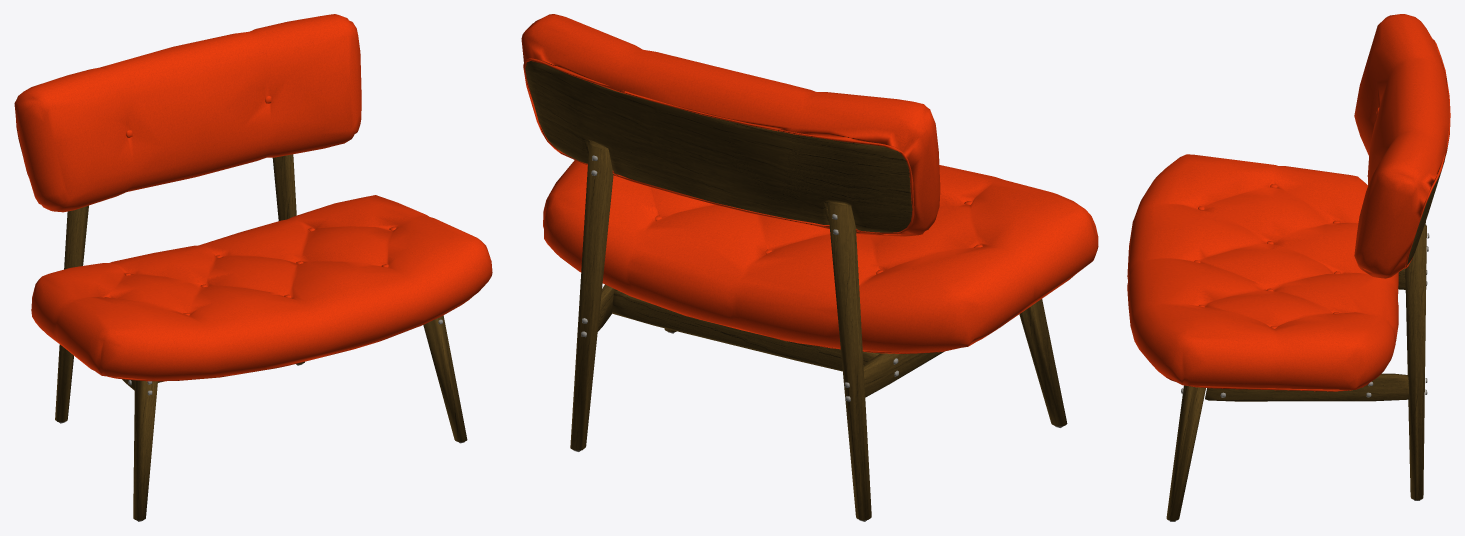
Rendered from SheenChair.lod1.glb.
3 views of the same model, side by side, from view 1: azimuth 30°, elevation 25°; view 2: azimuth 150°, elevation 25°; view 3: azimuth 270°, elevation 25° (orthographic). The views are drawn at different scales.
Parts seen in each view (by area): view 1: SheenChair_fabric, SheenChair_wood; view 2: SheenChair_fabric, SheenChair_wood; view 3: SheenChair_fabric, SheenChair_wood.
Boxes of the visible parts, x1,y1,x2,y2 form: SheenChair_fabric: [14, 14, 492, 381]; SheenChair_wood: [55, 154, 467, 520]; SheenChair_fabric: [521, 14, 1098, 353]; SheenChair_wood: [525, 61, 1067, 520]; SheenChair_fabric: [1127, 14, 1450, 391]; SheenChair_wood: [1166, 161, 1444, 520].
Size of the model in its own units: 0.8262 by 0.6852 by 0.5699.
4 materials, 3 textured.
